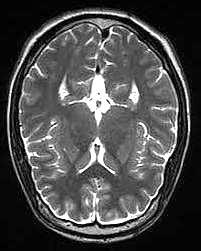Normal_Brain: (1, 9, 201, 251)
